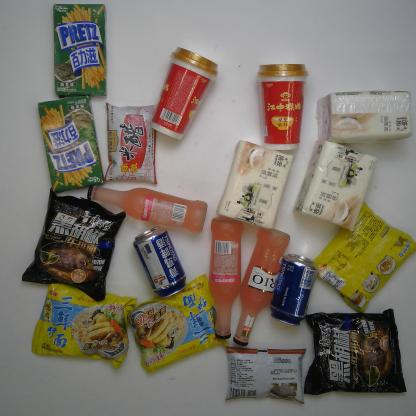Alcohol: (231, 225, 291, 347), (83, 183, 210, 235), (206, 214, 245, 341), (131, 224, 188, 300), (267, 251, 319, 327)
Dessert: (34, 92, 106, 194), (50, 2, 110, 99)
Instant Drink: (146, 43, 222, 143), (253, 60, 311, 153)
Instant Noodles: (20, 185, 128, 304), (310, 199, 416, 314), (124, 270, 230, 380), (28, 281, 139, 371), (300, 308, 409, 396)
Seasoner: (98, 98, 162, 188), (221, 342, 308, 406)
Tissue: (289, 135, 380, 235), (213, 138, 298, 234), (314, 88, 414, 147)
